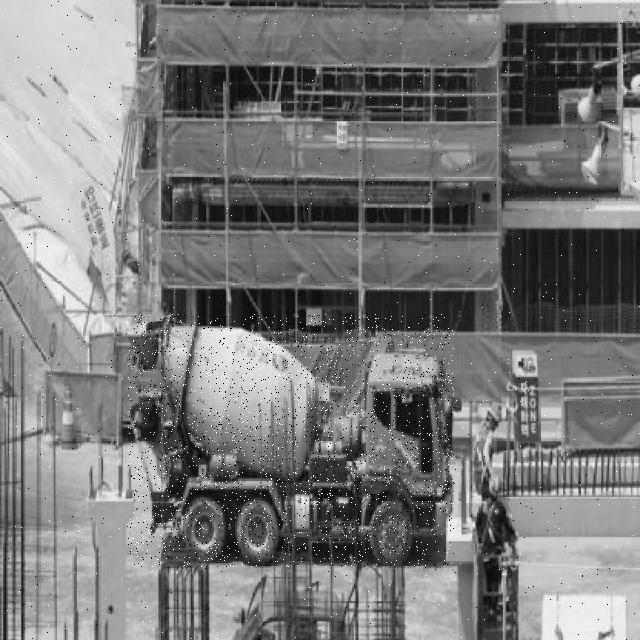Concrete Mixer: (128, 314, 454, 567)
